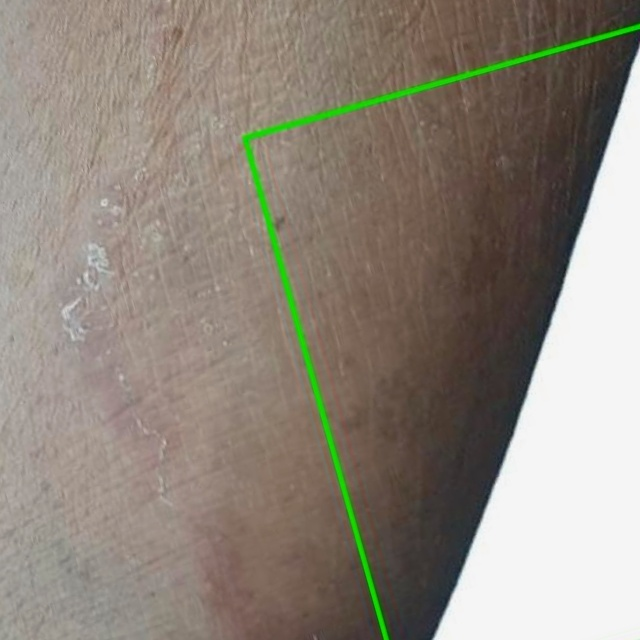Tinea Corporis: (244, 26, 639, 639)
